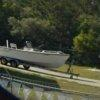Boat: (1, 31, 71, 76)
